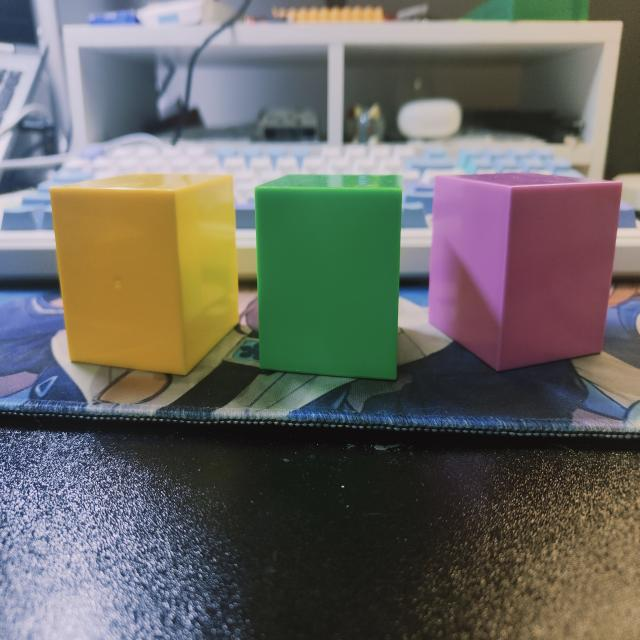green: (253, 175, 404, 382)
pink: (427, 175, 622, 374)
yellow: (49, 174, 238, 380)
